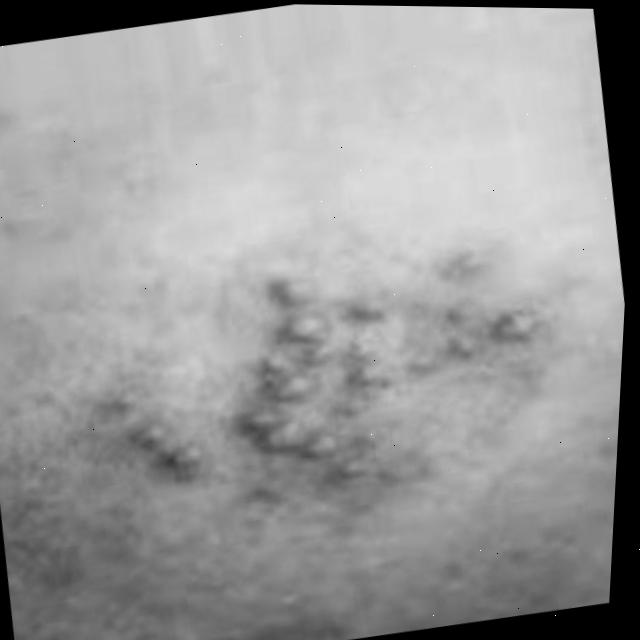Shingles: (223, 232, 579, 494), (118, 387, 210, 485)
